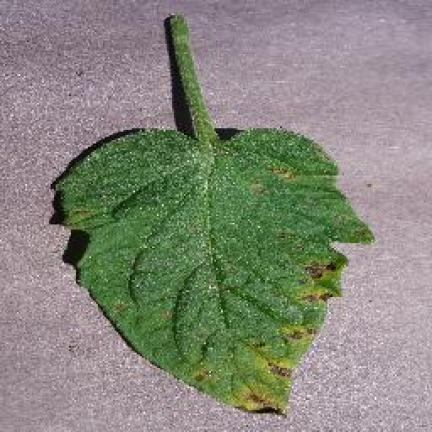disease: (56, 130, 371, 410), (168, 14, 223, 142)
leaf: (305, 262, 341, 299)
